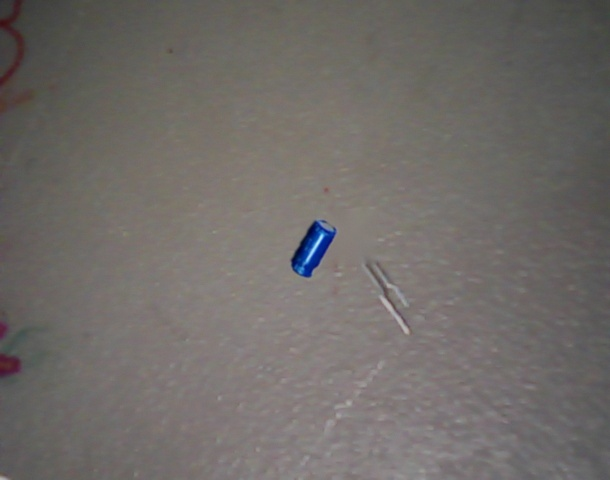capacitor: (291, 220, 338, 278)
